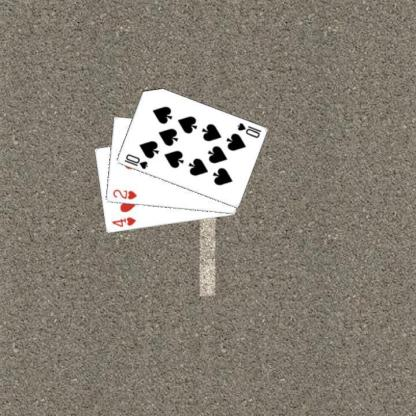10S: (234, 120, 262, 139), (121, 152, 149, 170)
2H: (110, 187, 138, 201)
4H: (109, 214, 137, 229)
